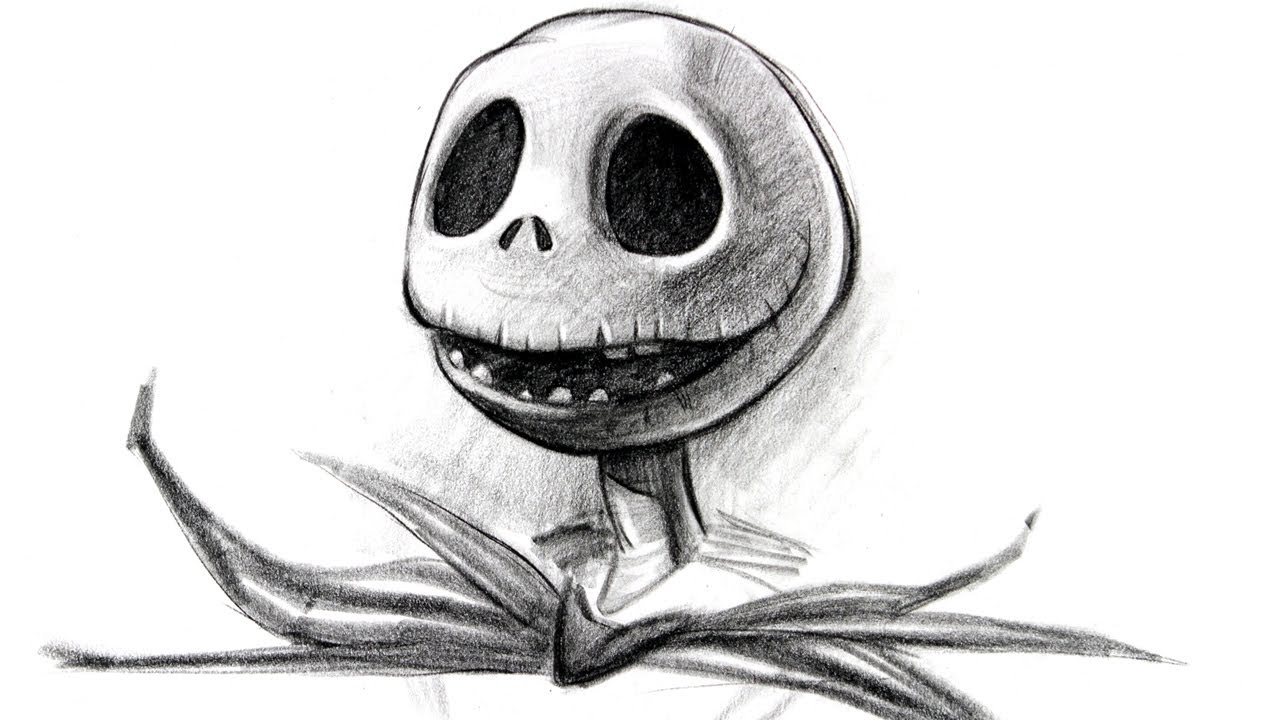Jack Skellington: (38, 6, 1192, 720)
